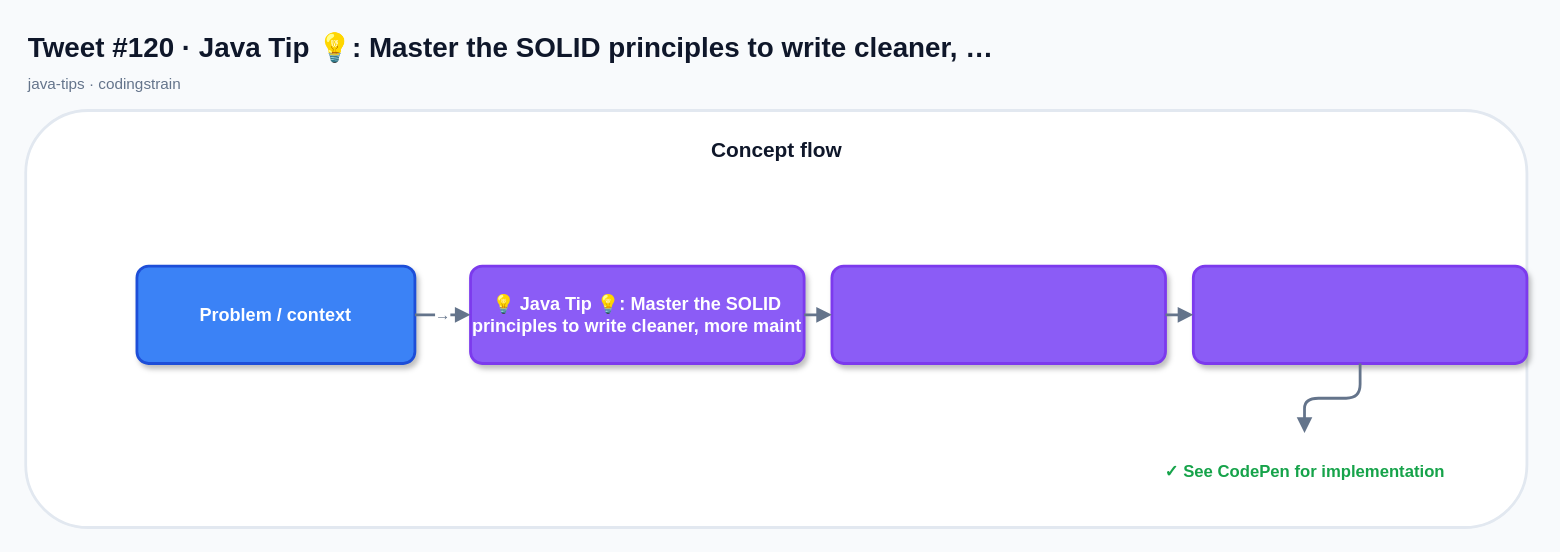
Image size: 1560x552. Some labels were removed from this diagram. Each missing label, with the centre of its shape:
"Each letter stands for a key design principle:" goes at point 1361,316.
"Java Tip 💡: Master the SOLID principles to write cleaner, more maintai" goes at point 999,316.
